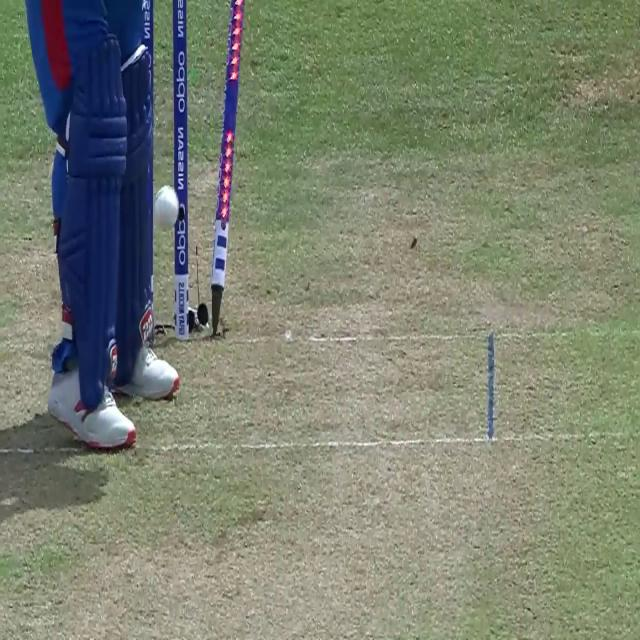ball: (152, 188, 178, 232)
